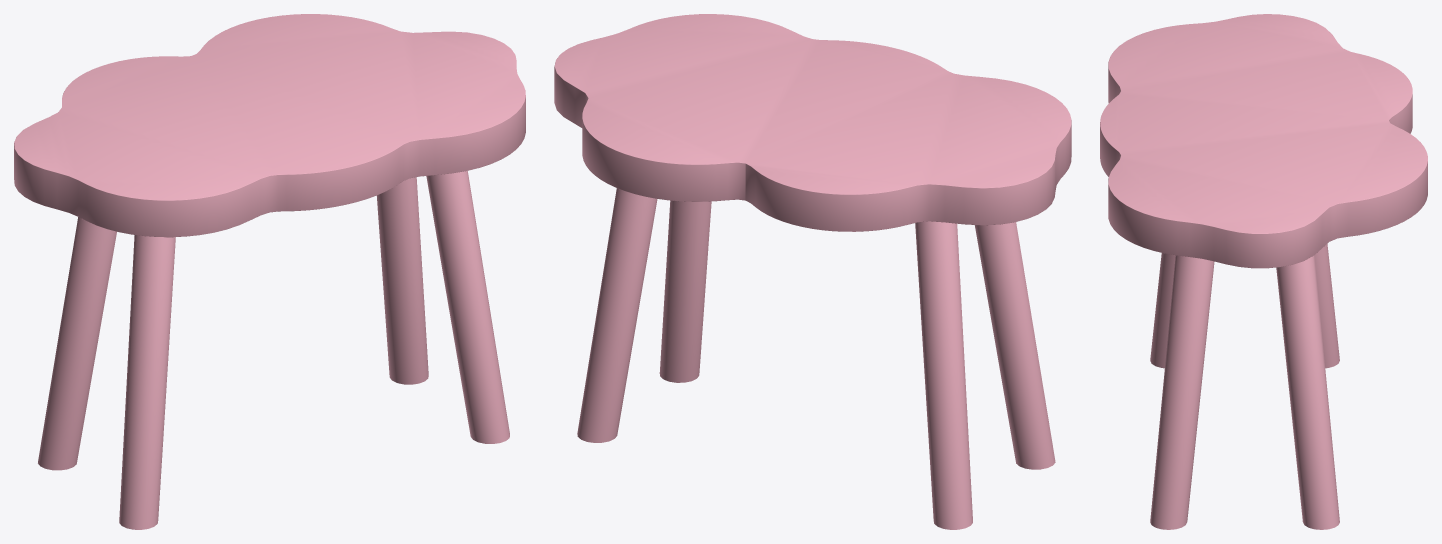
File: mesa_lateral_nuvem_rosa.glb
3 renders of one model, left to right at view 1: azimuth 30°, elevation 25°; view 2: azimuth 150°, elevation 25°; view 3: azimuth 270°, elevation 25°, orthographic. The views are drawn at different scales.
Parts seen in each view (by area): view 1: mesa_lateral_nuvem_rosa; view 2: mesa_lateral_nuvem_rosa; view 3: mesa_lateral_nuvem_rosa.
Part boxes in pixels (box(x1,y1,x2,y2)): mesa_lateral_nuvem_rosa: box(14, 14, 525, 529); mesa_lateral_nuvem_rosa: box(554, 14, 1071, 529); mesa_lateral_nuvem_rosa: box(1100, 14, 1427, 529).
Bounding box in the file's own units: 0.6818 × 0.46 × 0.4294.
1 material, 1 textured.
